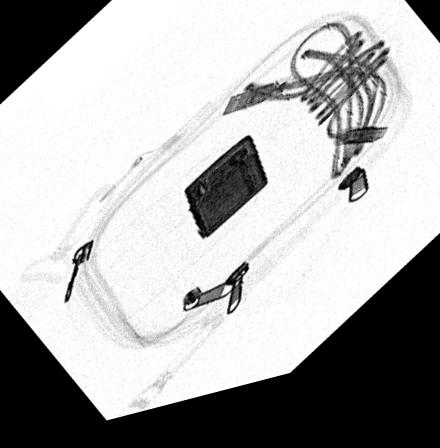Lighter: (181, 146, 268, 251)
